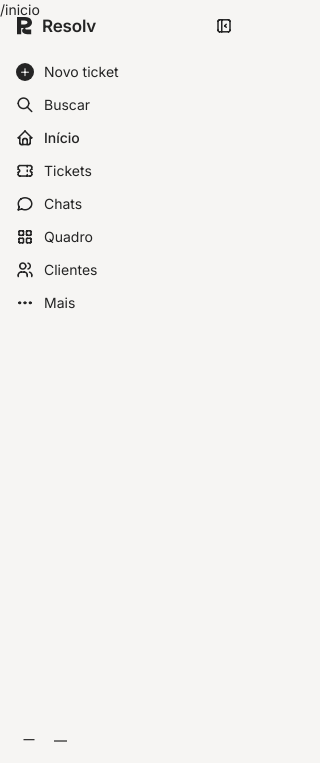
Test: Sidebar — navegação principal › "Novo ticket" é a ação primária e abre a tela de novo ticket
Click the button "Novo ticket" at {"x": 124, "y": 72}, box [8,56,240,88]
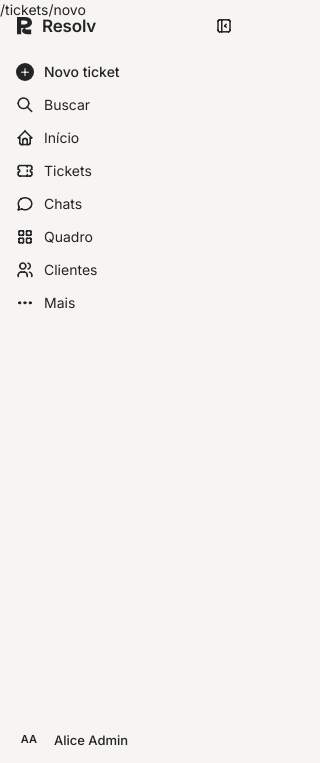
Expected: the text with test id "rota" reads "/tickets/novo", [0,1,86,18]
